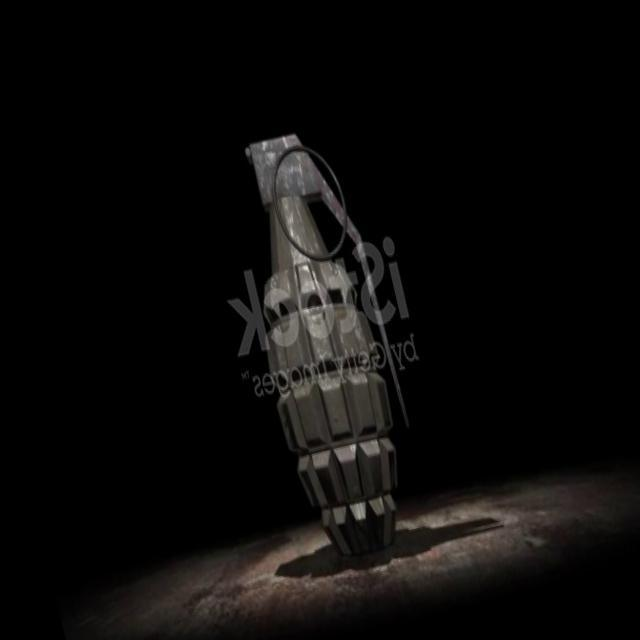grenade: (210, 122, 439, 582)
